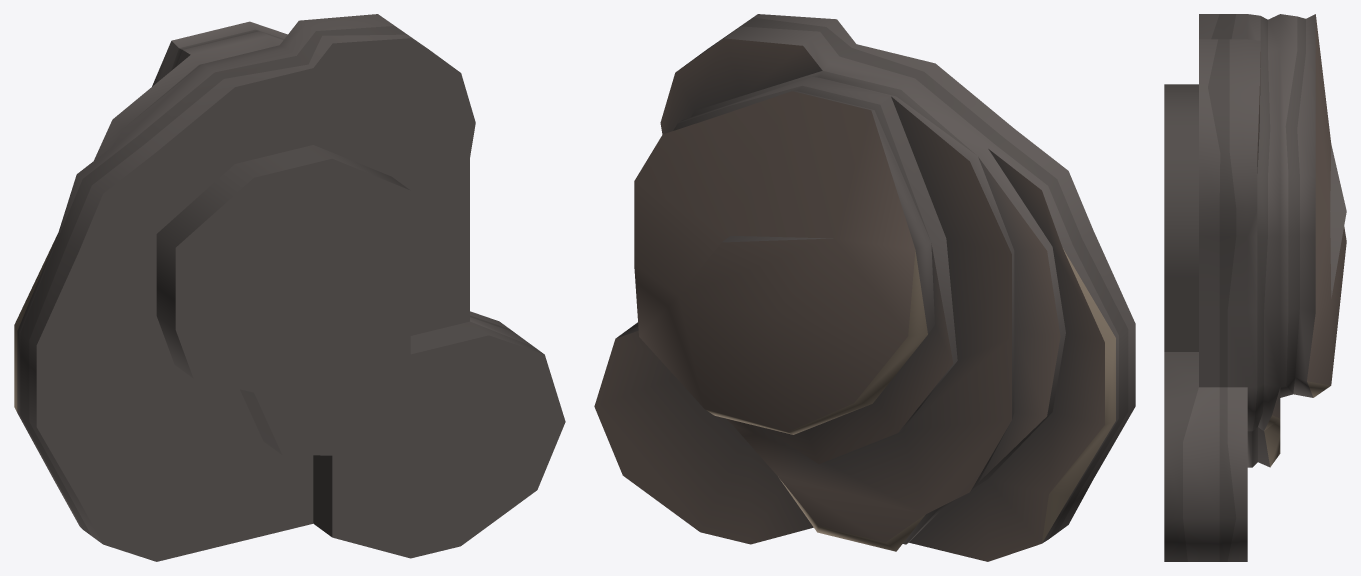
The model's file is RockFlatLayered.004.glb.
3 renders of one model, left to right at view 1: azimuth 30°, elevation 25°; view 2: azimuth 150°, elevation 25°; view 3: azimuth 270°, elevation 25°, orthographic. The views are drawn at different scales.
Parts seen in each view (by area): view 1: RockFlatLayered.004; view 2: RockFlatLayered.004; view 3: RockFlatLayered.004.
Boxes of the visible parts, x1,y1,x2,y2 form: RockFlatLayered.004: (14,14,565,561); RockFlatLayered.004: (594,14,1135,561); RockFlatLayered.004: (1164,14,1346,561).
Size of the model in its own units: 746 by 721 by 252.
